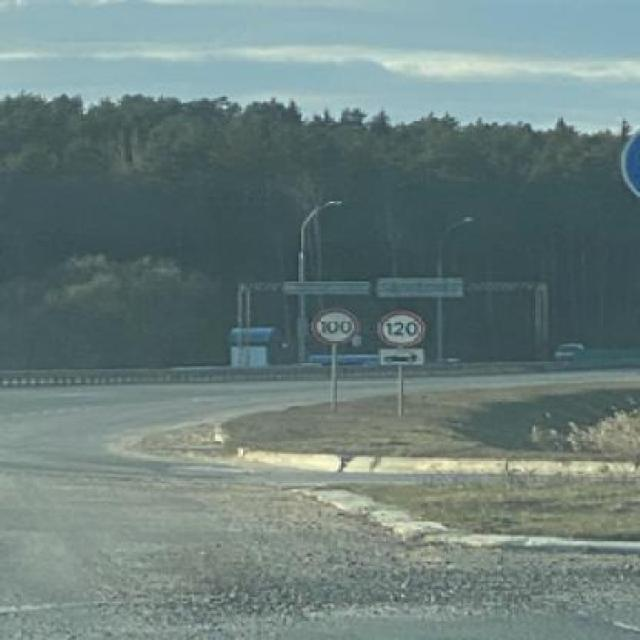forb_speed_over_100: (312, 308, 361, 347)
forb_speed_over_120: (380, 311, 426, 349)
